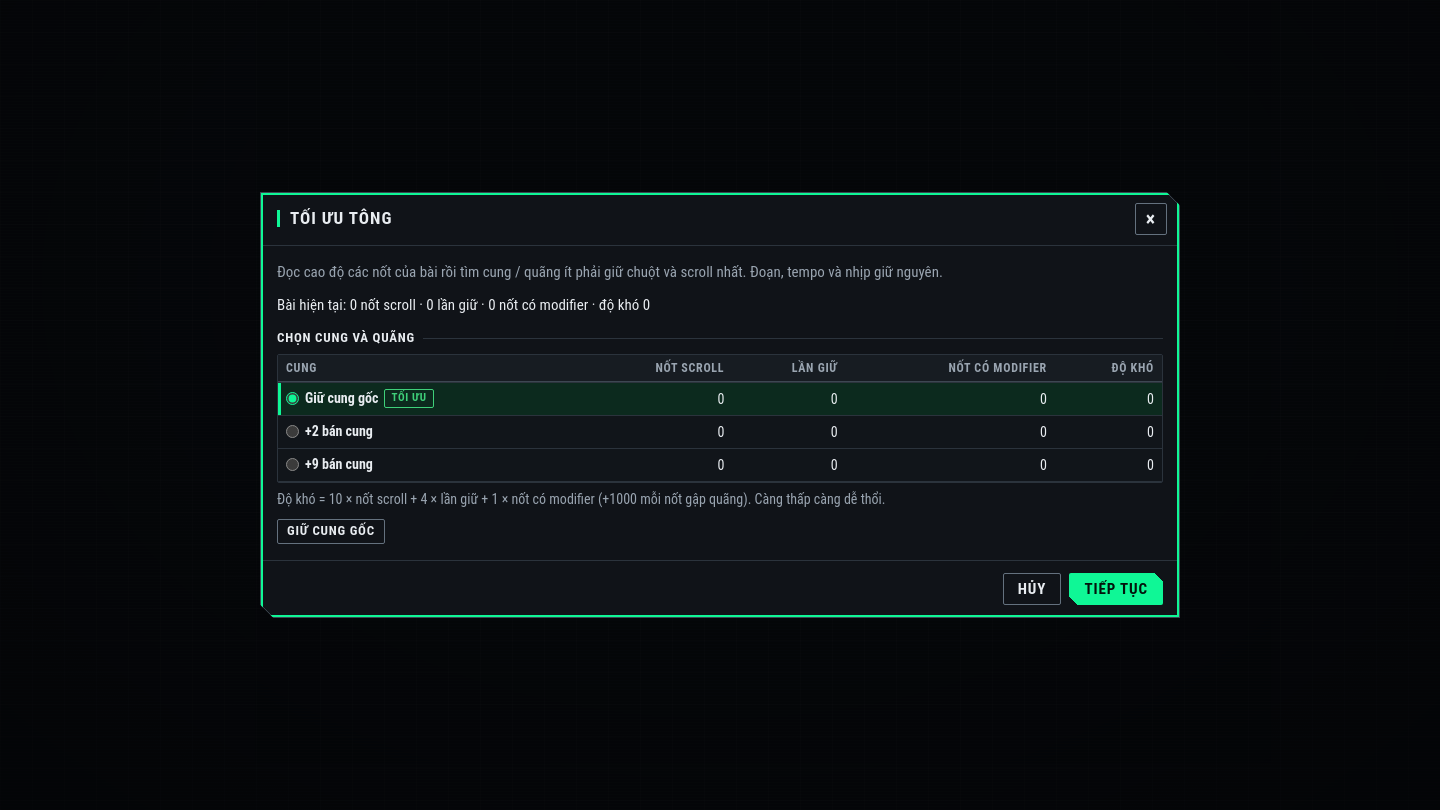
ReoptimizeModal › mentions syntax errors in the confirmation
Click the button "Tiếp tục" at coordinates (1116, 589), box [1069,573,1163,606]
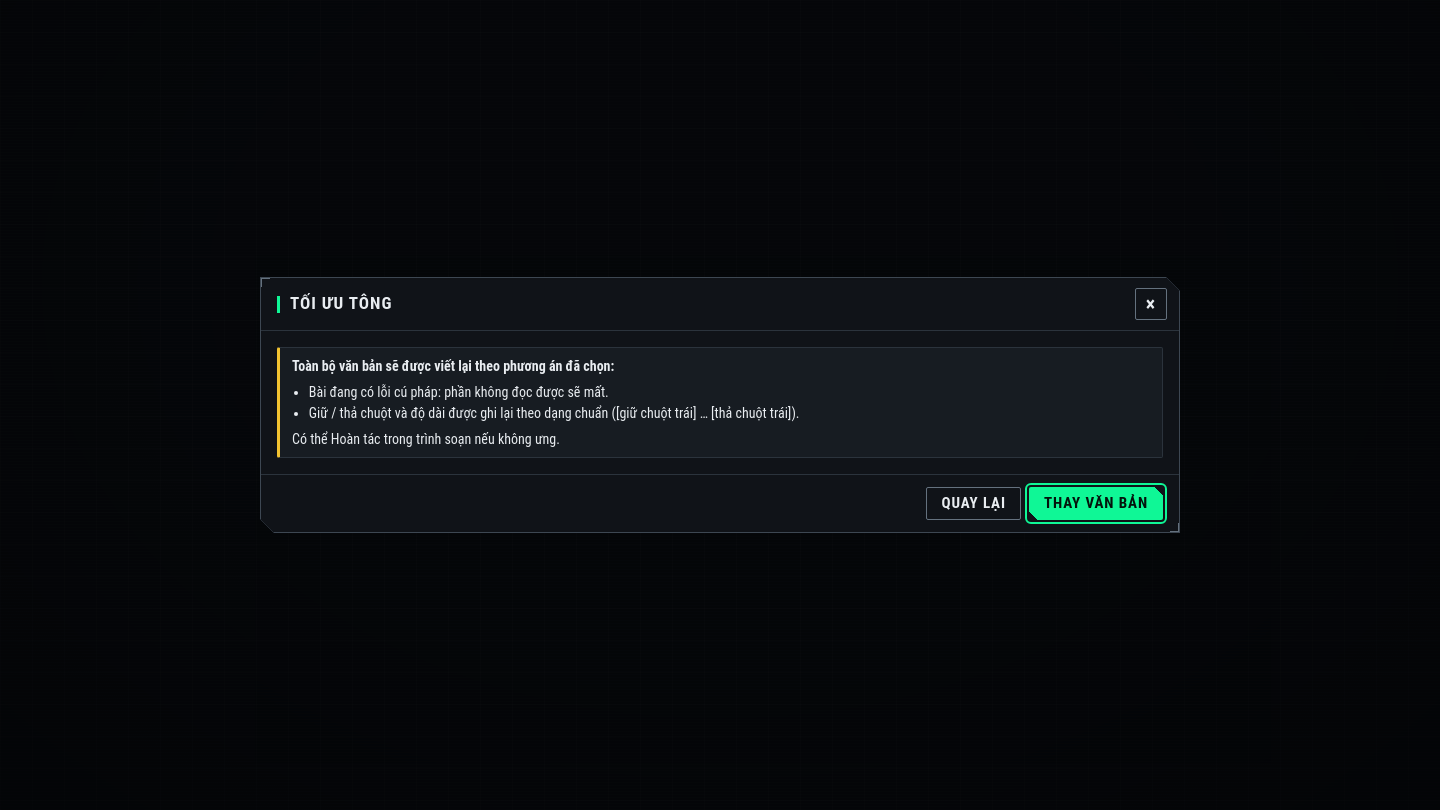
Now the message shows "lỗi cú pháp", box [309,384,609,400]
